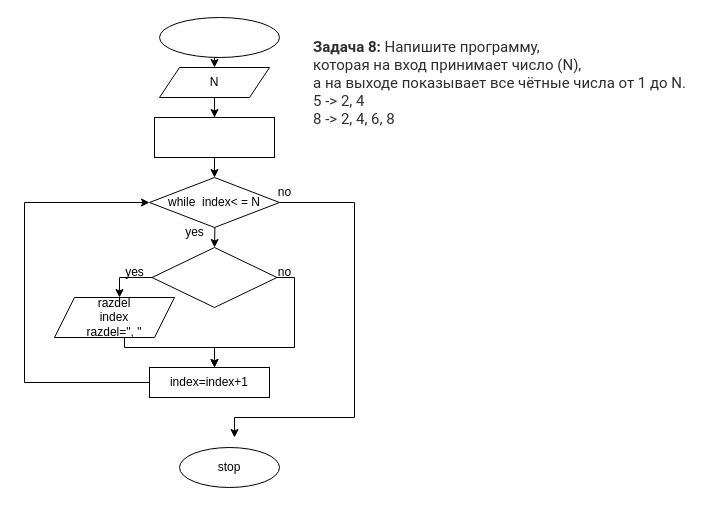
Image size: 712x505. Some labels were removed from this diagram. The box of each missing label's shape, as (x1, y1, x2, y2) in pixels:
if index %2 == 0: (151, 246, 277, 308)
index=1 razdel=" -> ": (154, 116, 274, 158)
start: (158, 16, 280, 58)
